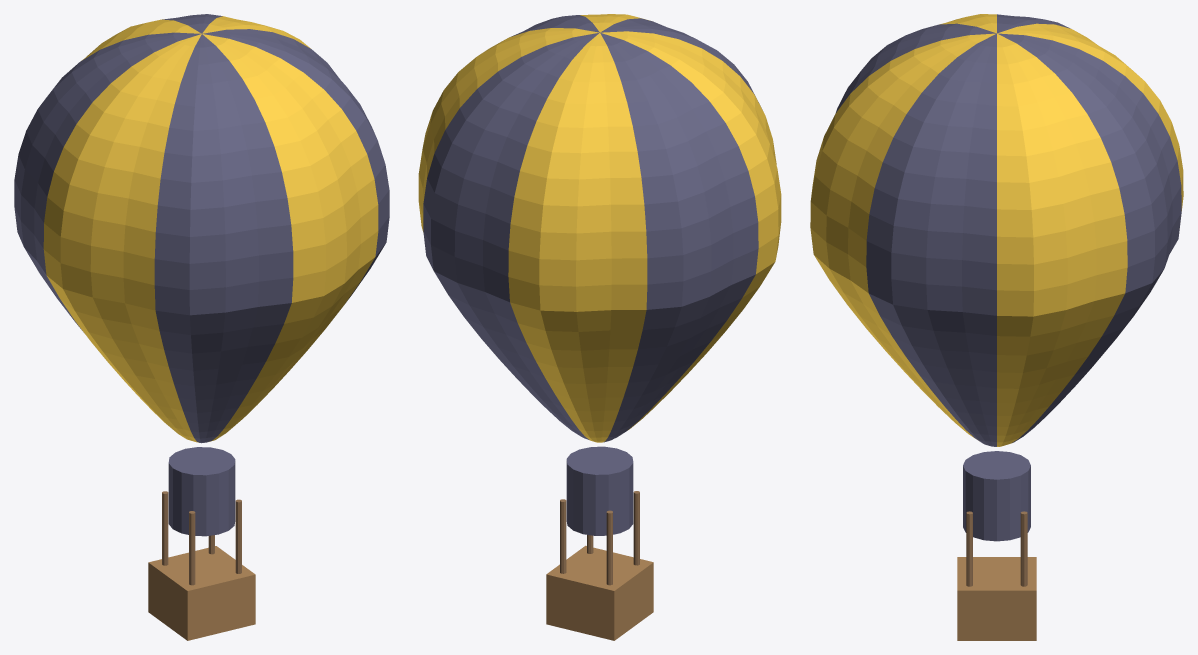
Rendered from balloon.glb.
The picture shows the model from 3 angles, left to right: view 1: azimuth 30°, elevation 25°; view 2: azimuth 150°, elevation 25°; view 3: azimuth 270°, elevation 25°; orthographic projection.
Visible parts, largest first — view 1: object 1, object 6; view 2: object 1, object 6, Balloon_Rope_0, Balloon_Rope_2, Balloon_Rope_3; view 3: object 1, object 6, Balloon_Rope_0, Balloon_Rope_1.
Boxes of the visible parts, x1,y1,x2,y2 form: object 1: (14,14,389,640); object 6: (168,447,235,536); object 1: (418,14,781,640); object 6: (566,446,633,535); Balloon_Rope_0: (560,499,566,573); Balloon_Rope_2: (606,510,612,585); Balloon_Rope_3: (633,491,639,565); object 1: (810,14,1183,640); object 6: (963,451,1030,541); Balloon_Rope_0: (1020,511,1027,586); Balloon_Rope_1: (966,511,972,586).
Bounding box in the file's own units: 1.64 × 2.87 × 1.64.
